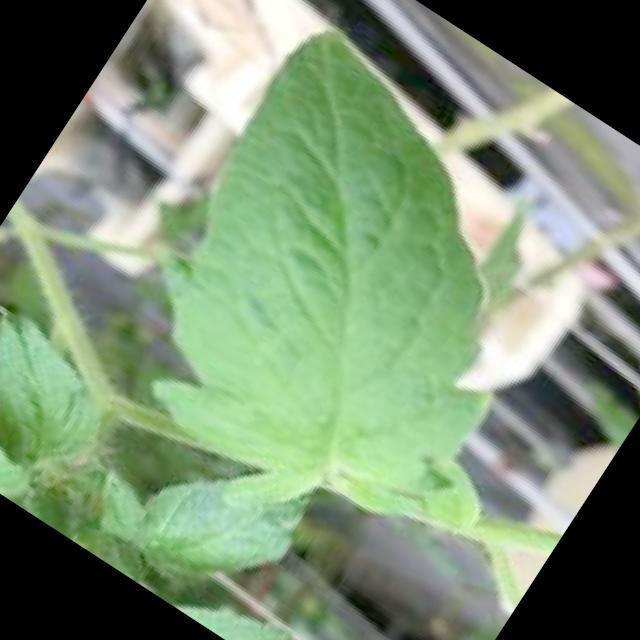Tomato healthy leaf: (152, 26, 502, 513)
